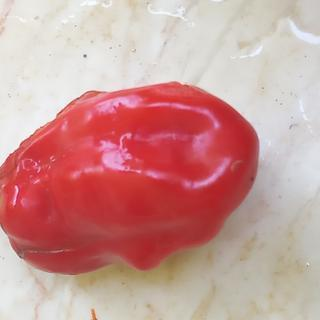striped: (13, 236, 82, 263)
